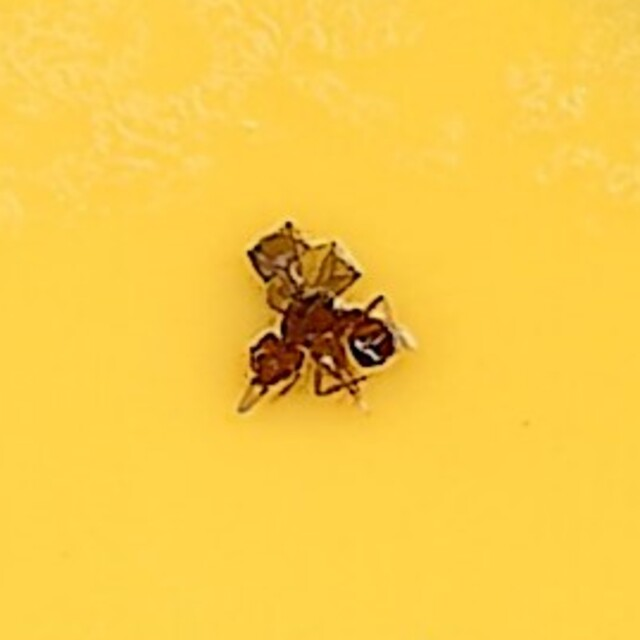Hymenoptera: (238, 224, 402, 416)
